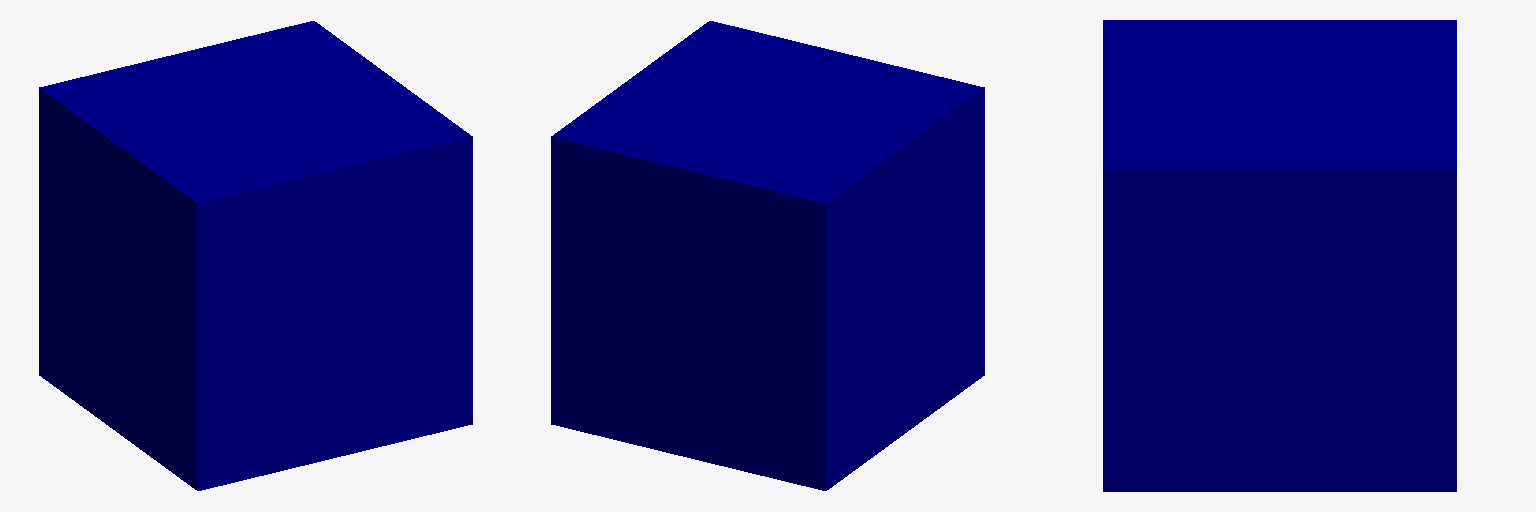
URDF robot description (cube):
<robot name="cube">
    <link name="cube_base">
        <inertial>
            <origin xyz="0 0 0" rpy="0 0 0"/>
            <mass value="0.37"/>
            <inertia
                ixx="0.00081"
                ixy="0"
                ixz="0"
                iyy="0.00081"
                iyz="0"
                izz="0.00081"/>
        </inertial>
        <visual>
            <origin xyz="0 0 0" rpy="0 0 0" />
            <geometry>
                <box size="0.1048 0.1048 0.1048"/>
            </geometry>
            <material name="pennred">
                <color rgba="0 0 0.6 0.25" />
            </material>
        </visual>
        <collision>
            <geometry>
                <box size="0.1048 0.1048 0.1048"/>
            </geometry>
            <origin xyz="0 0 0" rpy="0 0 0" />
        </collision>
    </link>
</robot>

--- Facts derived from the render (not from the file) ---
3 views of the same robot in one strip: view 1: azimuth 30°, elevation 25°; view 2: azimuth 150°, elevation 25°; view 3: azimuth 270°, elevation 25° (orthographic).
Model cube with 1 links and 0 joints (none), rooted at cube_base, posed all joints at 0.
Links seen in each view (by area): view 1: cube_base; view 2: cube_base; view 3: cube_base.
Boxes of the visible links, x1,y1,x2,y2 form: cube_base: (39,21,472,490); cube_base: (551,21,984,490); cube_base: (1103,20,1456,491).
Size in the robot's own frame: 0.1048 by 0.1048 by 0.1048 metres.
Geometry: primitives only (box / cylinder / sphere), no mesh files.